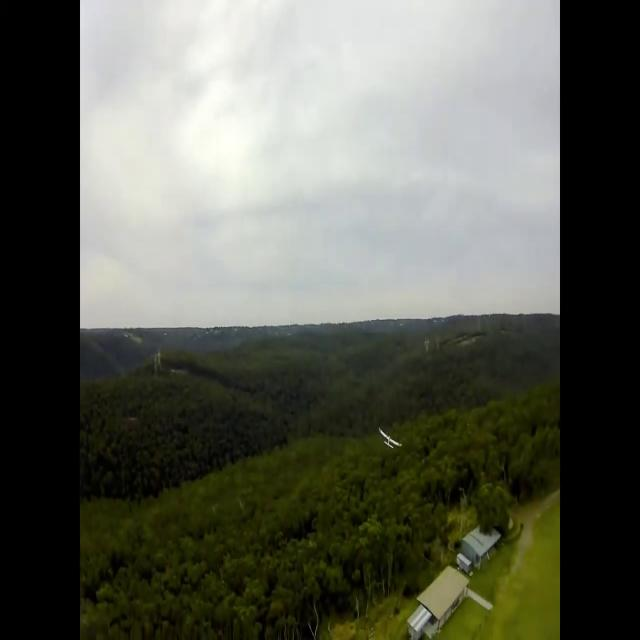iha: (372, 428, 397, 448)
